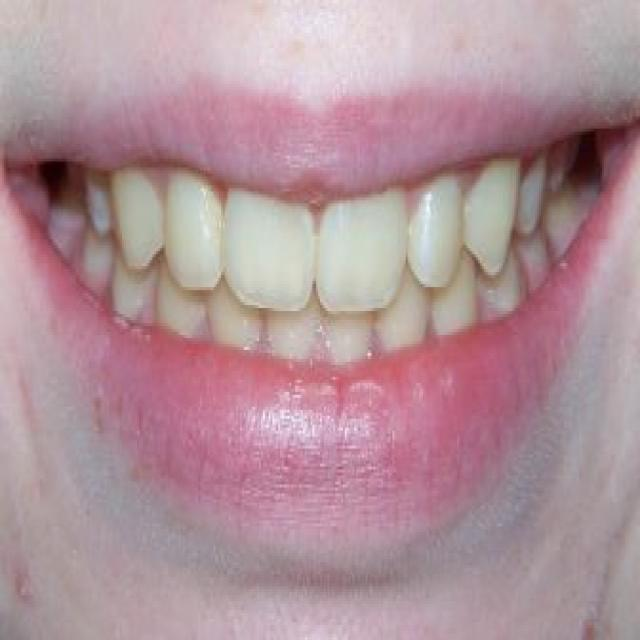tooth: (225, 188, 312, 311), (312, 197, 406, 308), (164, 165, 226, 284), (108, 162, 174, 266), (406, 180, 463, 296), (465, 153, 514, 263), (370, 278, 436, 350), (430, 260, 484, 338), (108, 254, 162, 326), (198, 287, 261, 347), (259, 302, 330, 353), (154, 281, 210, 344), (474, 257, 524, 323), (316, 311, 374, 365), (512, 162, 548, 240), (65, 227, 110, 287), (86, 173, 126, 240), (543, 162, 575, 236), (520, 227, 552, 293)
